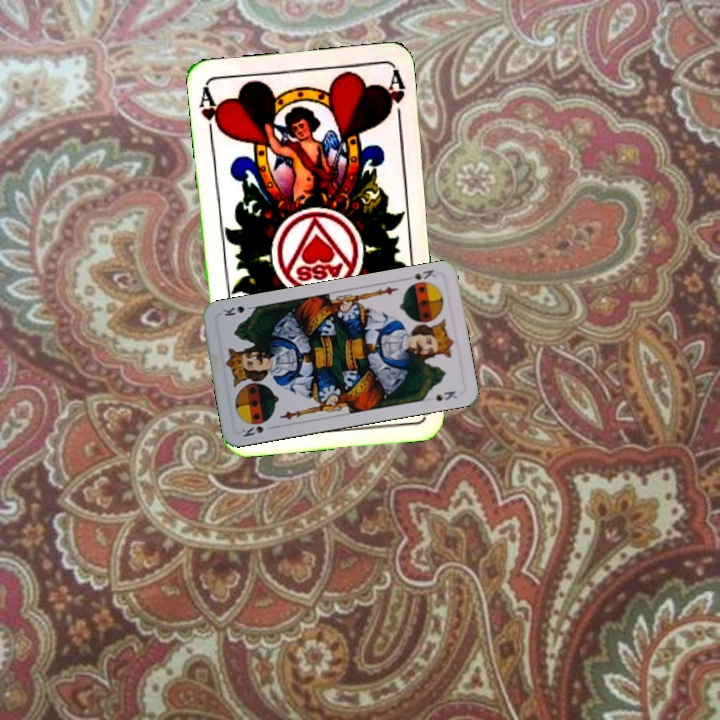HA: (195, 84, 225, 143)
SK: (401, 265, 438, 283), (238, 422, 266, 440)
